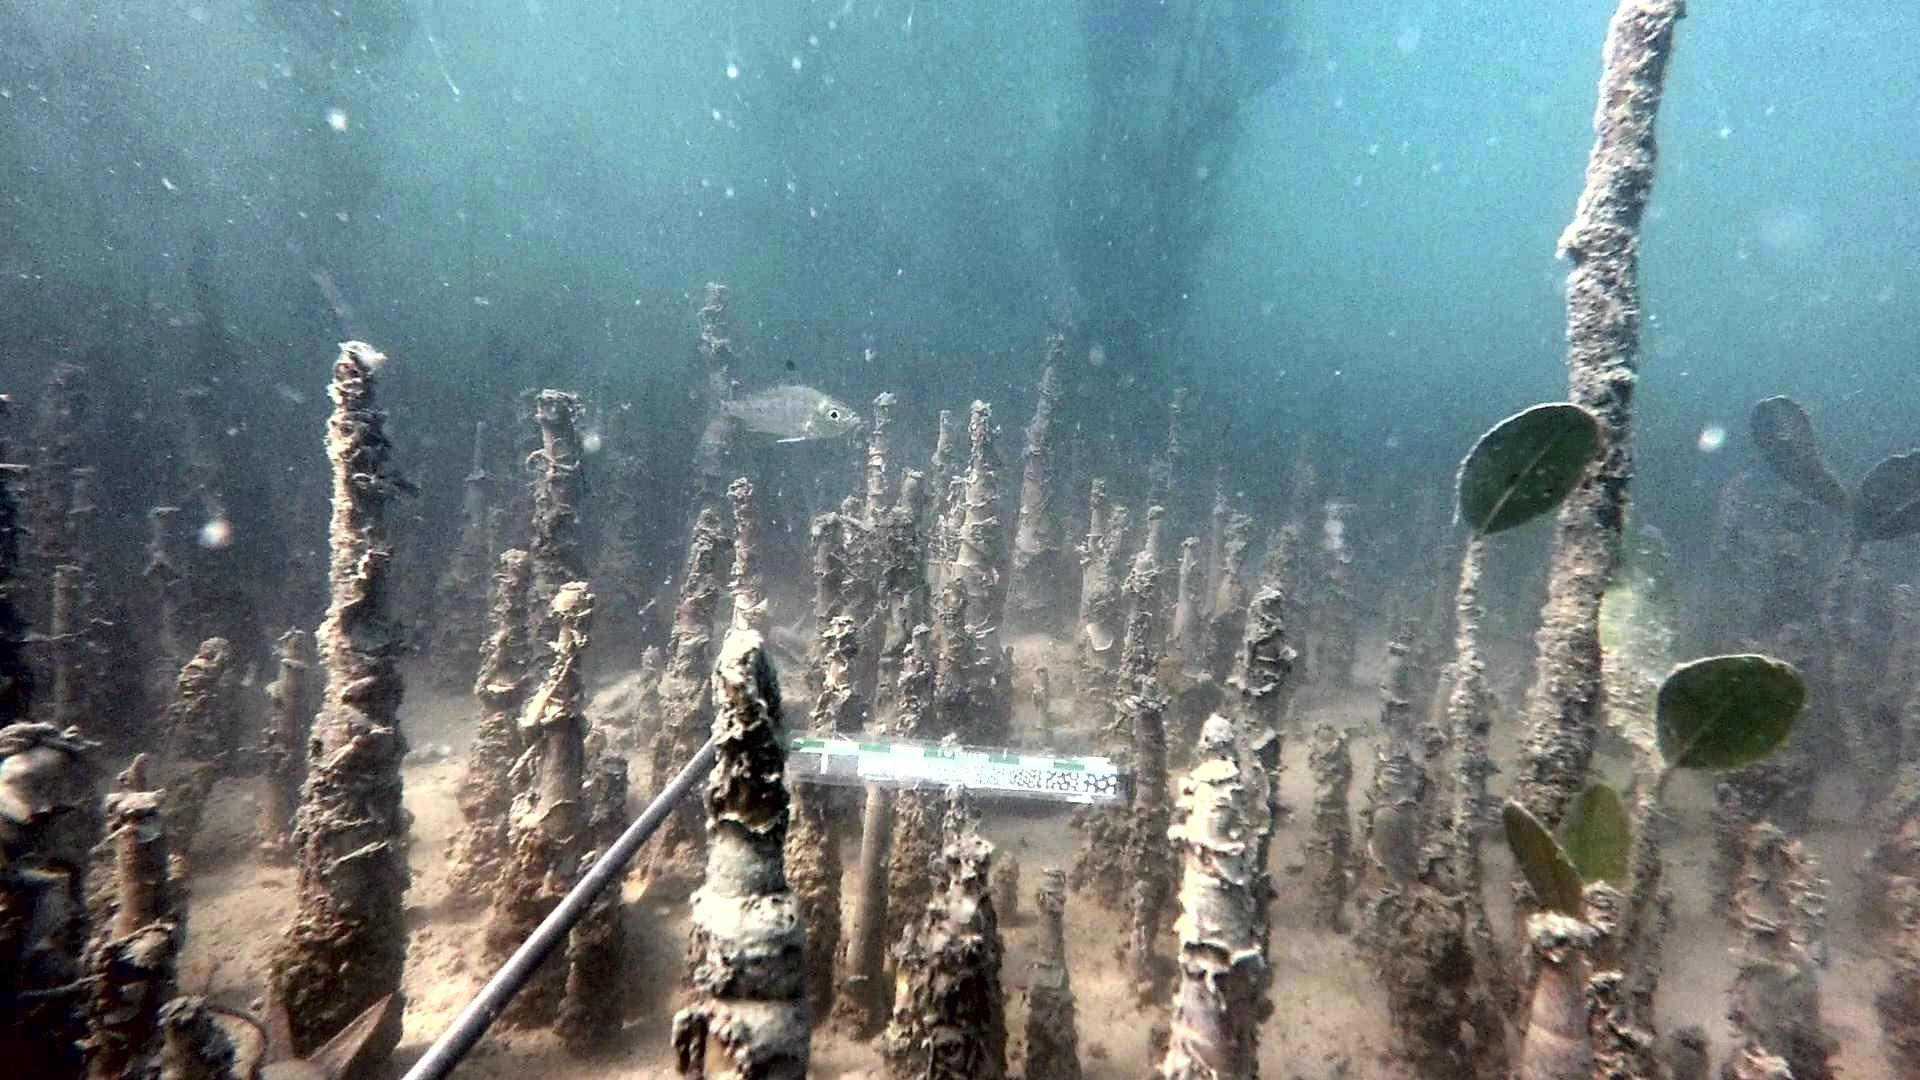gerres: (690, 359, 862, 444)
